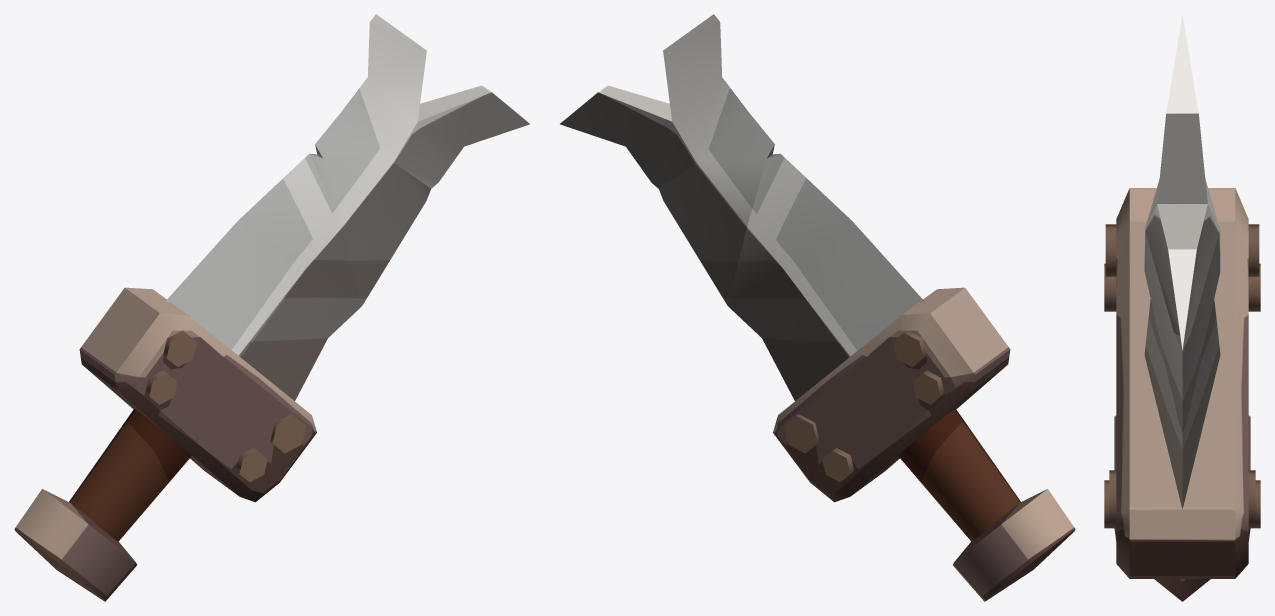
The model's file is Bronze_01.FBX.
3 renders of one model, left to right at view 1: azimuth 30°, elevation 25°; view 2: azimuth 150°, elevation 25°; view 3: azimuth 270°, elevation 25°, orthographic. The views are drawn at different scales.
Visible parts, largest first — view 1: bronze_01; view 2: bronze_01; view 3: bronze_01.
Boxes of the visible parts, x1,y1,x2,y2 form: bronze_01: (14, 14, 529, 601); bronze_01: (560, 14, 1075, 601); bronze_01: (1104, 14, 1260, 601).
Bounding box in the file's own units: 76.33 × 73.76 × 13.3.
